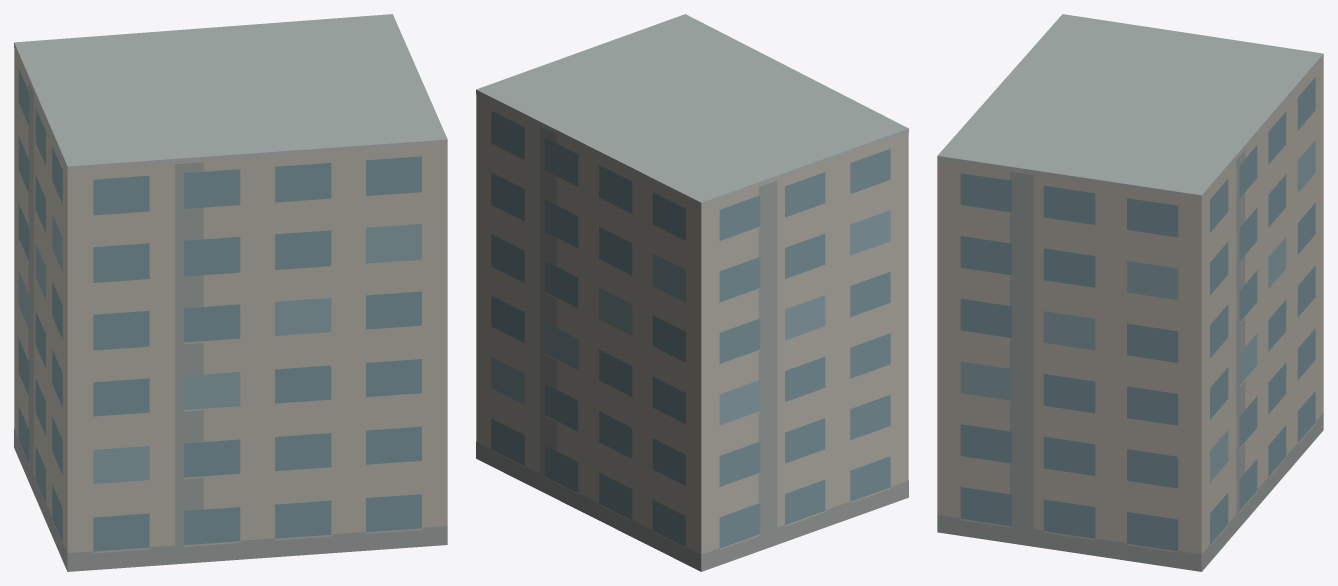
File: survey-upis-32893531.glb
3 renders of one model, left to right at view 1: azimuth 30°, elevation 25°; view 2: azimuth 150°, elevation 25°; view 3: azimuth 270°, elevation 25°, orthographic. The views are drawn at different scales.
Parts seen in each view (by area): view 1: survey-upis-32893531.tmp; view 2: survey-upis-32893531.tmp; view 3: survey-upis-32893531.tmp.
Part boxes in pixels (x1,y1,x2,y2): survey-upis-32893531.tmp: (14, 14, 447, 571); survey-upis-32893531.tmp: (476, 14, 908, 571); survey-upis-32893531.tmp: (937, 14, 1323, 571).
Size of the model in its own units: 19.02 by 18.4 by 17.12.
